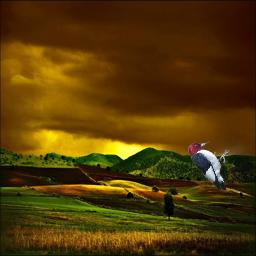Woodpecker: (188, 142, 231, 191)
